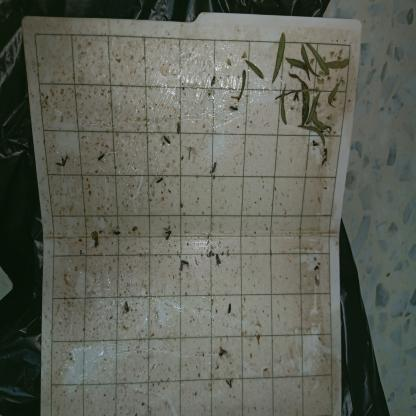prays_oleae: (54, 153, 71, 169), (161, 132, 175, 149), (224, 374, 236, 392), (179, 257, 193, 271), (121, 301, 132, 316), (214, 252, 222, 270), (95, 152, 107, 164)
